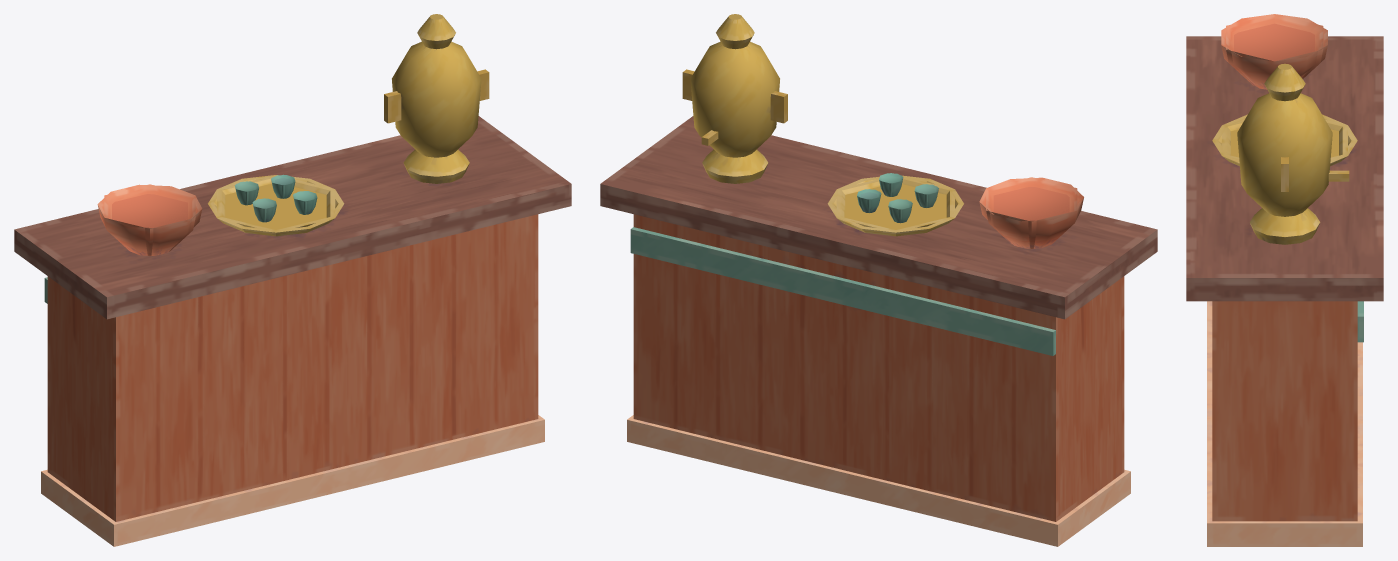
File: counter.bundle.fbx
The picture shows the model from 3 angles, left to right: view 1: azimuth 30°, elevation 25°; view 2: azimuth 150°, elevation 25°; view 3: azimuth 270°, elevation 25°; orthographic projection. The views are drawn at different scales.
Visible parts, largest first — view 1: counter, counter_low, counter_s05, counter_s03, counter_s07, counter_s06, counter_s02, counter_s04; view 2: counter, counter_s02, counter_low, counter_s03, counter_s07, counter_s00, counter_s01, counter_s06, counter_s04; view 3: counter, counter_s01, counter_low, counter_s04, counter_s06, counter_s00, counter_s05, counter_s07, counter_s03, counter_s02.
Boxes of the visible parts, x1,y1,x2,y2 form: counter: (16,14,565,546); counter_low: (14,14,571,319); counter_s05: (312,295,544,498); counter_s03: (42,329,275,544); counter_s07: (16,174,245,374); counter_s06: (193,149,435,450); counter_s02: (256,394,356,506); counter_s04: (429,160,571,311); counter: (603,14,1155,546); counter_s02: (681,275,934,507); counter_low: (600,14,1157,319); counter_s03: (900,379,1130,546); counter_s07: (833,211,1157,393); counter_s00: (627,324,752,472); counter_s01: (600,140,756,328); counter_s06: (730,165,986,352); counter_s04: (659,116,828,177); counter: (1190,14,1379,546); counter_s01: (1257,208,1383,419); counter_low: (1186,14,1383,301); counter_s04: (1186,201,1277,407); counter_s06: (1186,104,1383,212); counter_s00: (1207,419,1362,523); counter_s05: (1207,403,1297,522); counter_s07: (1186,36,1383,156); counter_s03: (1207,301,1362,379); counter_s02: (1207,378,1362,464).
Size of the model in its own units: 5.5 by 4.7 by 1.9.
Materials: 1 (1 with a texture image).
